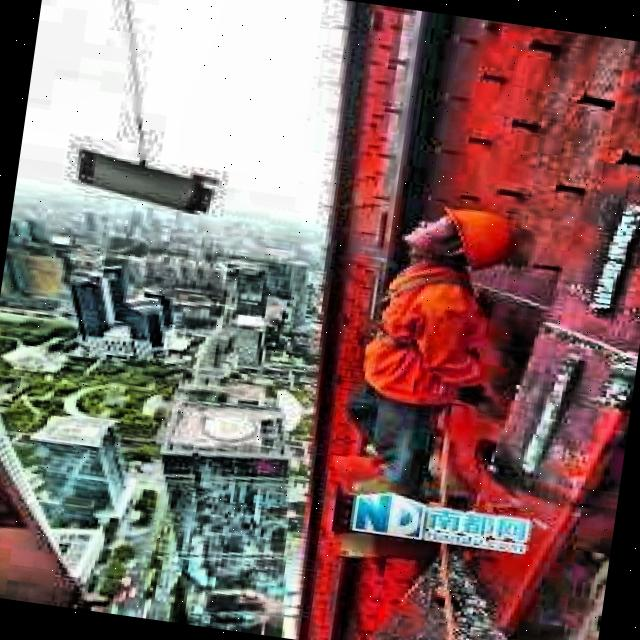helmet: (398, 197, 523, 281)
